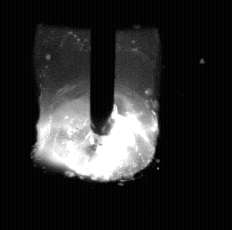arame: (92, 0, 115, 135)
poca: (36, 0, 157, 230)
